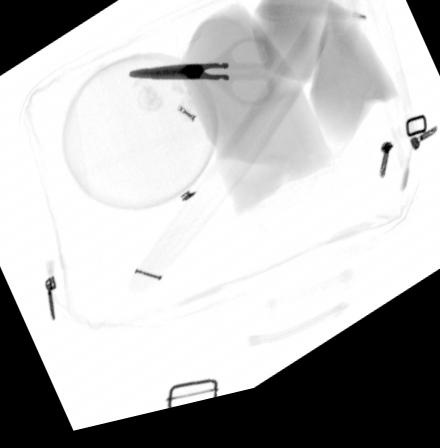Scissors: (126, 43, 274, 120)
